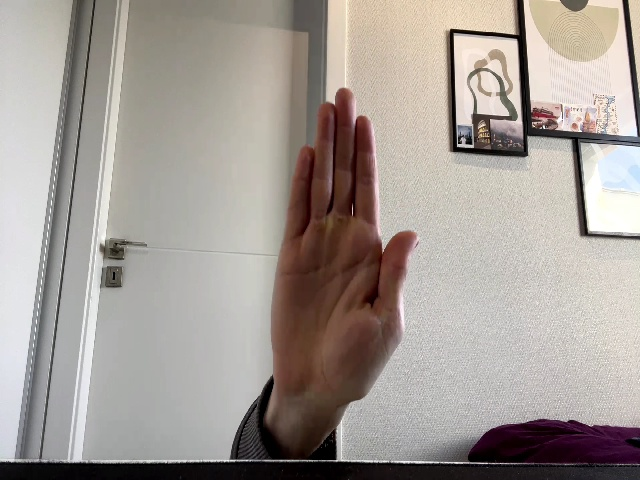B: (271, 87, 419, 402)
